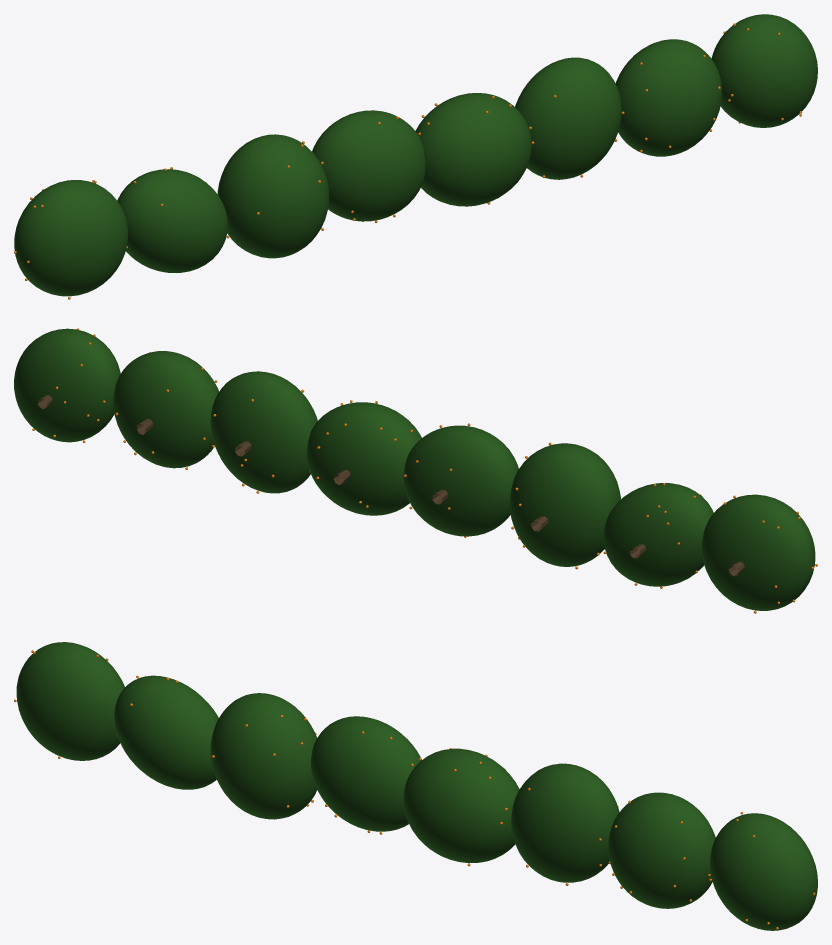
The model's file is citrus_plain8_e_fruit.obj.
3 views of the same model, one above another, from view 1: azimuth 30°, elevation 25°; view 2: azimuth 150°, elevation 25°; view 3: azimuth 330°, elevation 25° (orthographic).
Parts seen in each view (by area): view 1: canopy, fruit; view 2: canopy, trunk, fruit; view 3: canopy.
Boxes of the visible parts, x1,y1,x2,y2 form: canopy: (14, 14, 817, 296); fruit: (14, 23, 802, 299); canopy: (14, 328, 815, 610); trunk: (37, 395, 744, 576); fruit: (32, 328, 817, 613); canopy: (16, 642, 817, 930).
Size of the model in its own units: 24.29 by 3.45 by 2.84.
